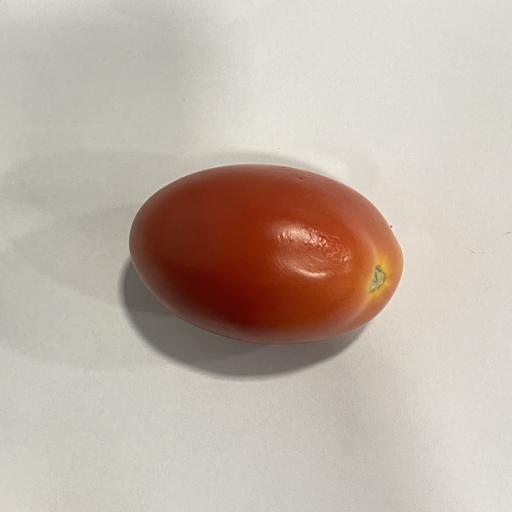ripe: (130, 164, 403, 344)
